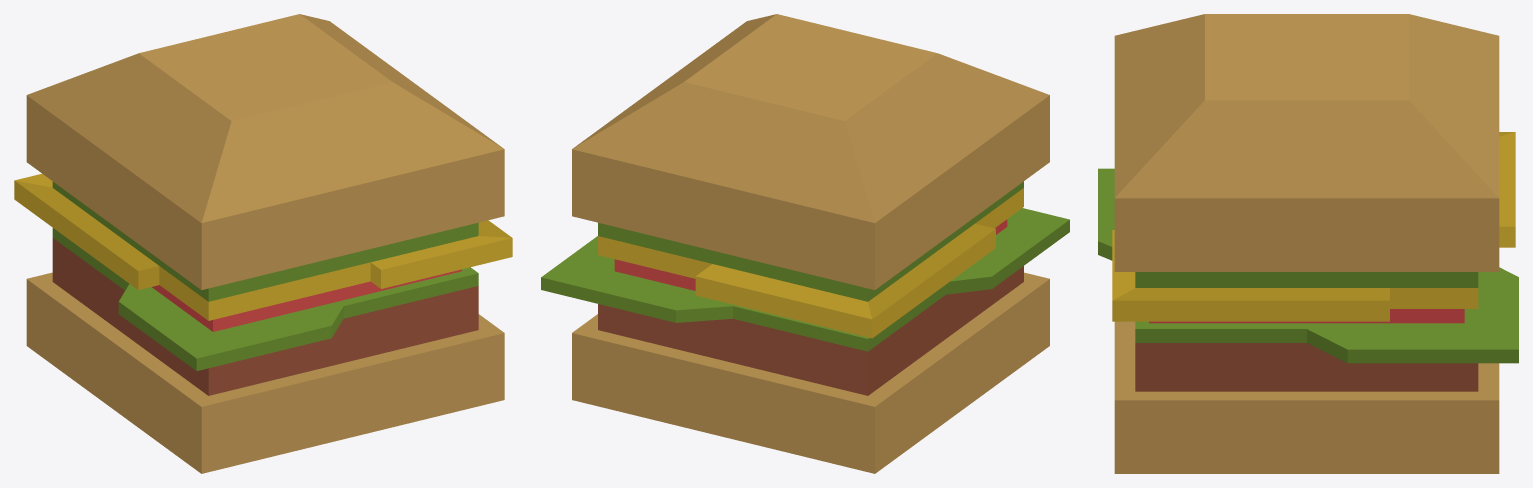
The model's file is Hamburguer.glb.
3 renders of one model, left to right at view 1: azimuth 30°, elevation 25°; view 2: azimuth 150°, elevation 25°; view 3: azimuth 270°, elevation 25°, orthographic. The views are drawn at different scales.
Parts seen in each view (by area): view 1: SI_Food_Hamburger; view 2: SI_Food_Hamburger; view 3: SI_Food_Hamburger.
Part boxes in pixels (<box>): SI_Food_Hamburger: <box>14,14,512,473</box>; SI_Food_Hamburger: <box>541,14,1069,473</box>; SI_Food_Hamburger: <box>1098,14,1518,473</box>.
Size of the model in its own units: 0.00476 by 0.00411 by 0.00468.
1 material, 1 textured.
